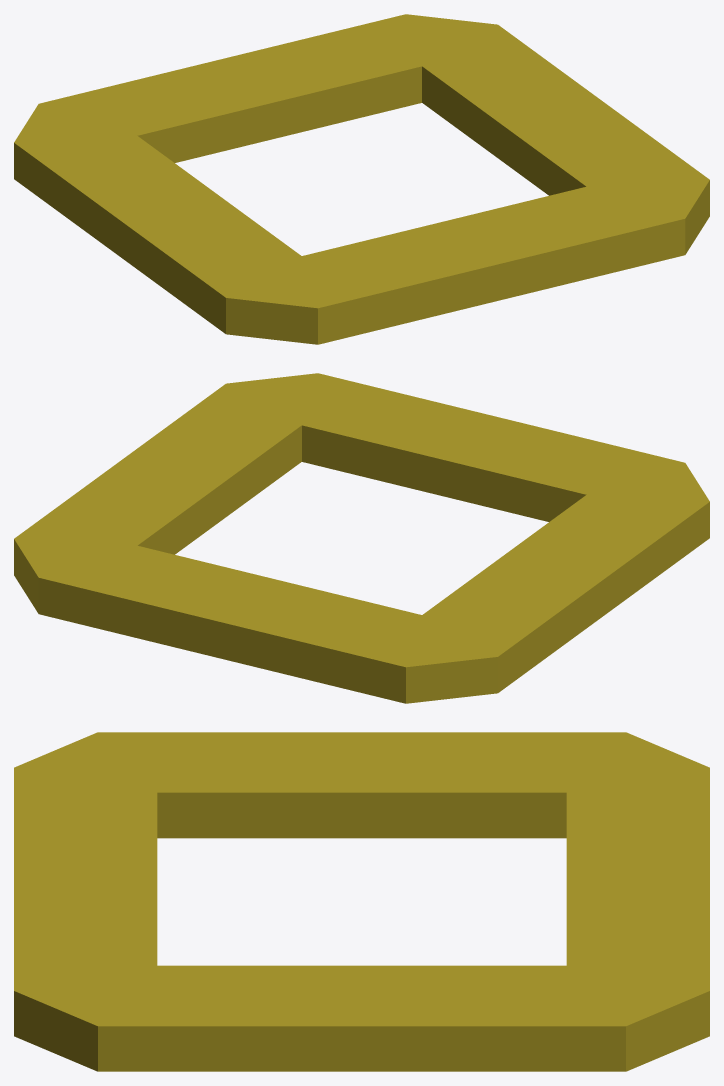
The model's file is base_air.dae.
The picture shows the model from 3 angles, top to bottom: view 1: azimuth 30°, elevation 25°; view 2: azimuth 150°, elevation 25°; view 3: azimuth 270°, elevation 25°; orthographic projection. The views are drawn at different scales.
Visible parts, largest first — view 1: Base Air; view 2: Base Air; view 3: Base Air.
Part boxes in pixels (x1=…): Base Air: x1=14, y1=14, x2=709, y2=344; Base Air: x1=14, y1=373, x2=709, y2=703; Base Air: x1=14, y1=732, x2=709, y2=1071.
Size of the model in its own units: 34 by 34 by 2.45.
